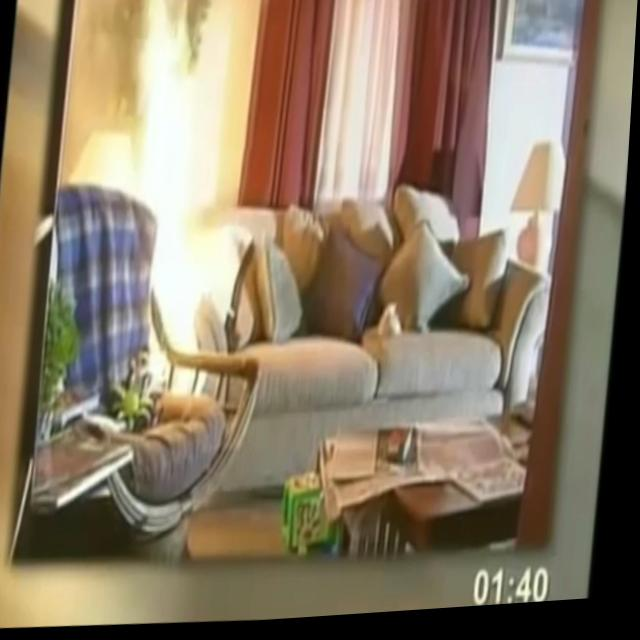fire: (94, 0, 230, 400)
